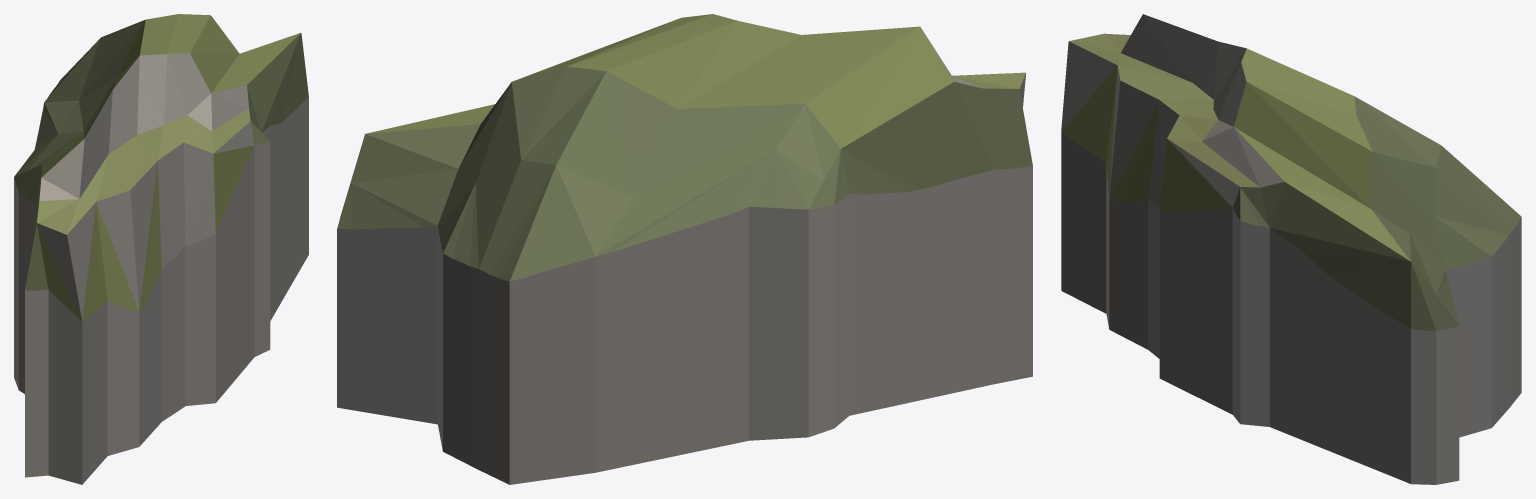
Rendered from cliff_crown.glb.
3 views of the same model, side by side, from view 1: azimuth 30°, elevation 25°; view 2: azimuth 150°, elevation 25°; view 3: azimuth 270°, elevation 25° (orthographic). The views are drawn at different scales.
Visible parts, largest first — view 1: cliff_crown; view 2: cliff_crown; view 3: cliff_crown.
Boxes of the visible parts, <box> form: cliff_crown: <box>14,14,308,484</box>; cliff_crown: <box>337,14,1032,484</box>; cliff_crown: <box>1061,14,1521,484</box>.
Size of the model in its own units: 134 by 93.57 by 124.
